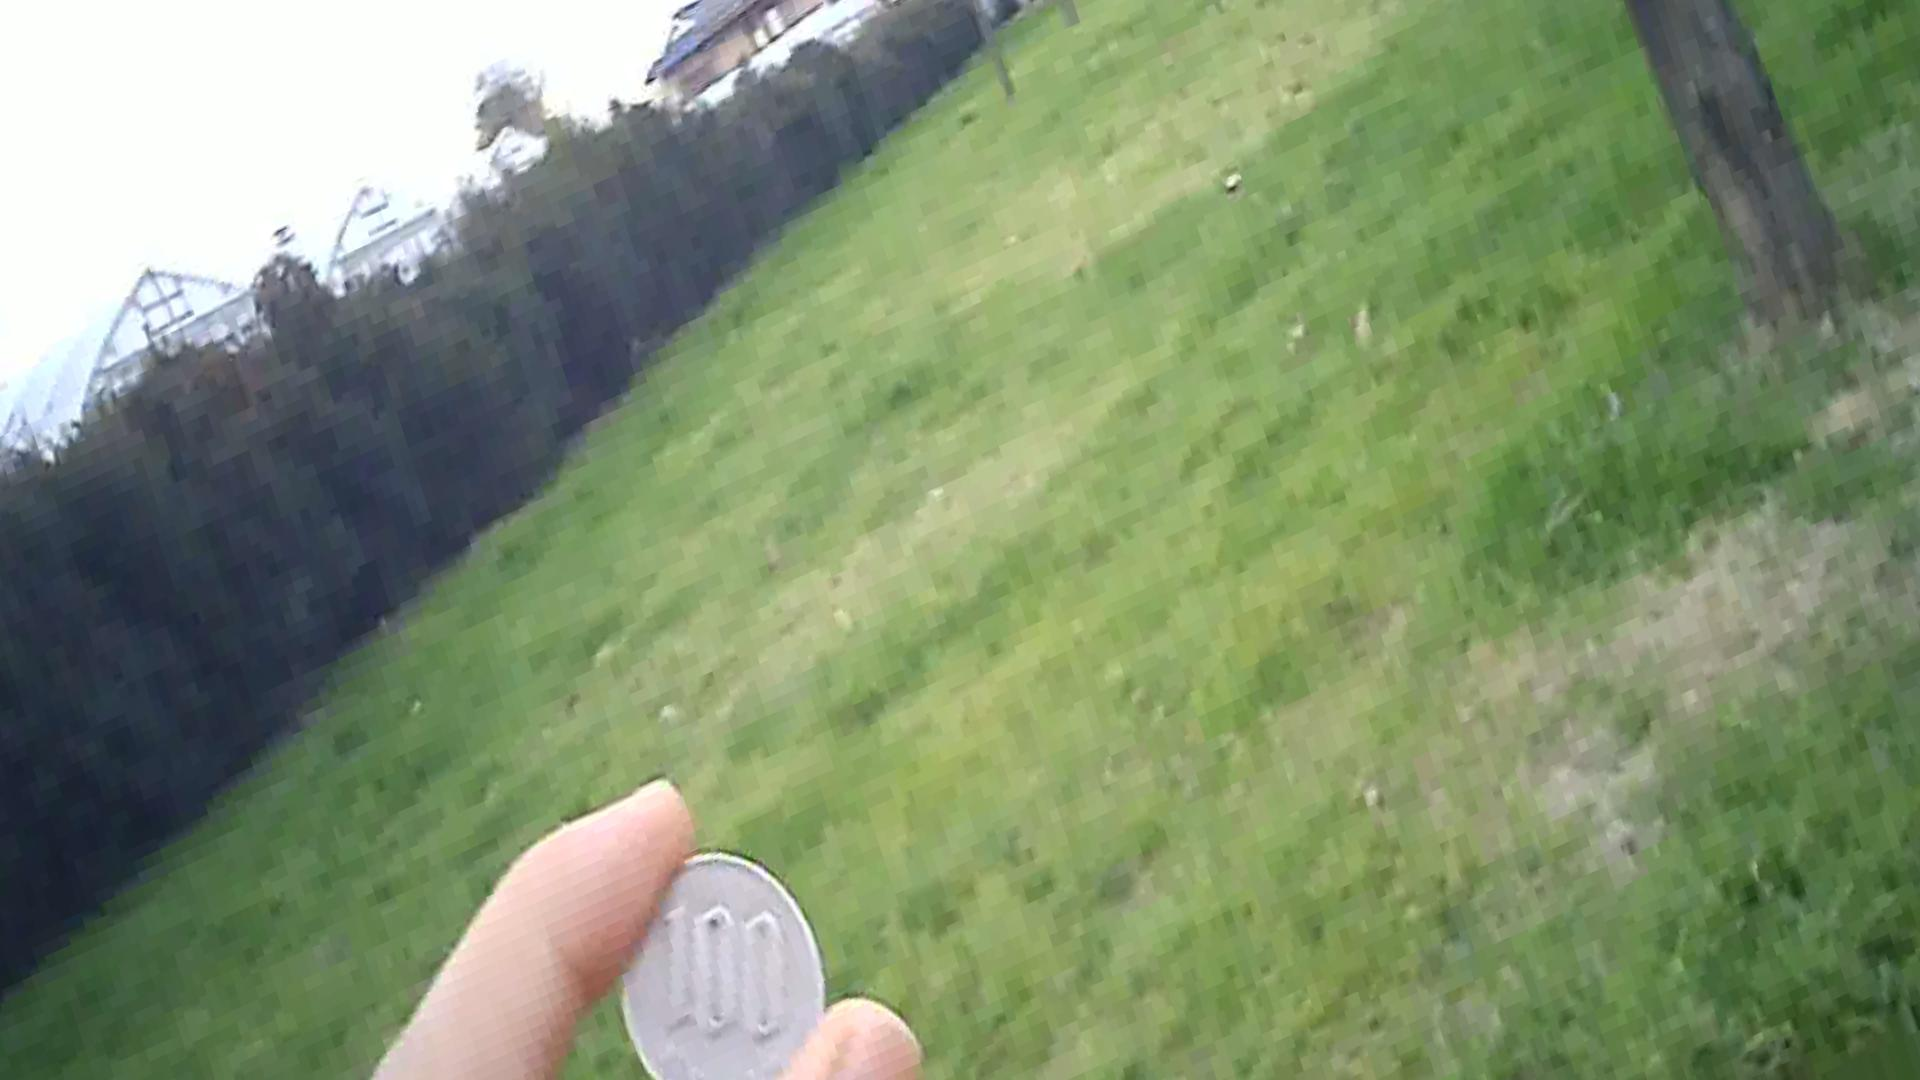100 Yen: (588, 848, 844, 1079)
